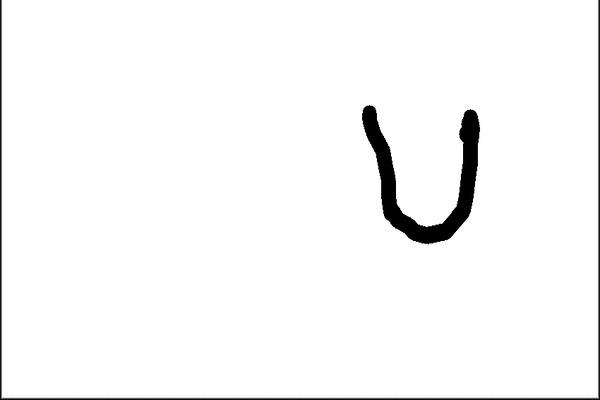U: (352, 93, 492, 241)
